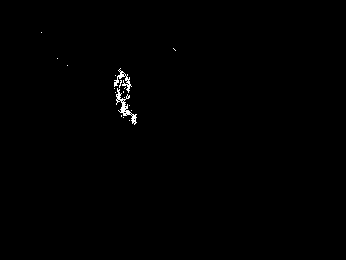person: (112, 68, 139, 125)
